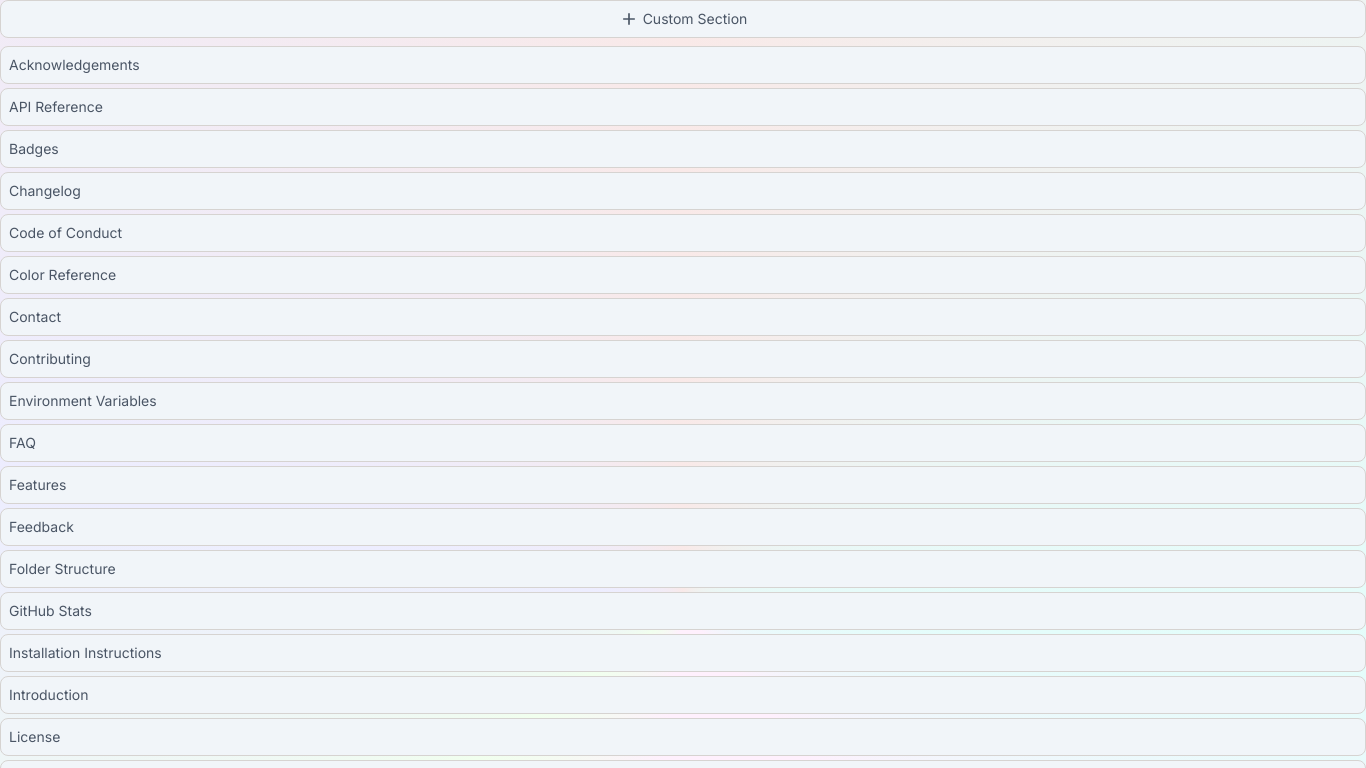
Test: Editor Component › renders the custom section button
The width and height of the screenshot is (1366, 768).
Click the text "Custom Section". click: (683, 19)
box: [0, 0, 1365, 38]
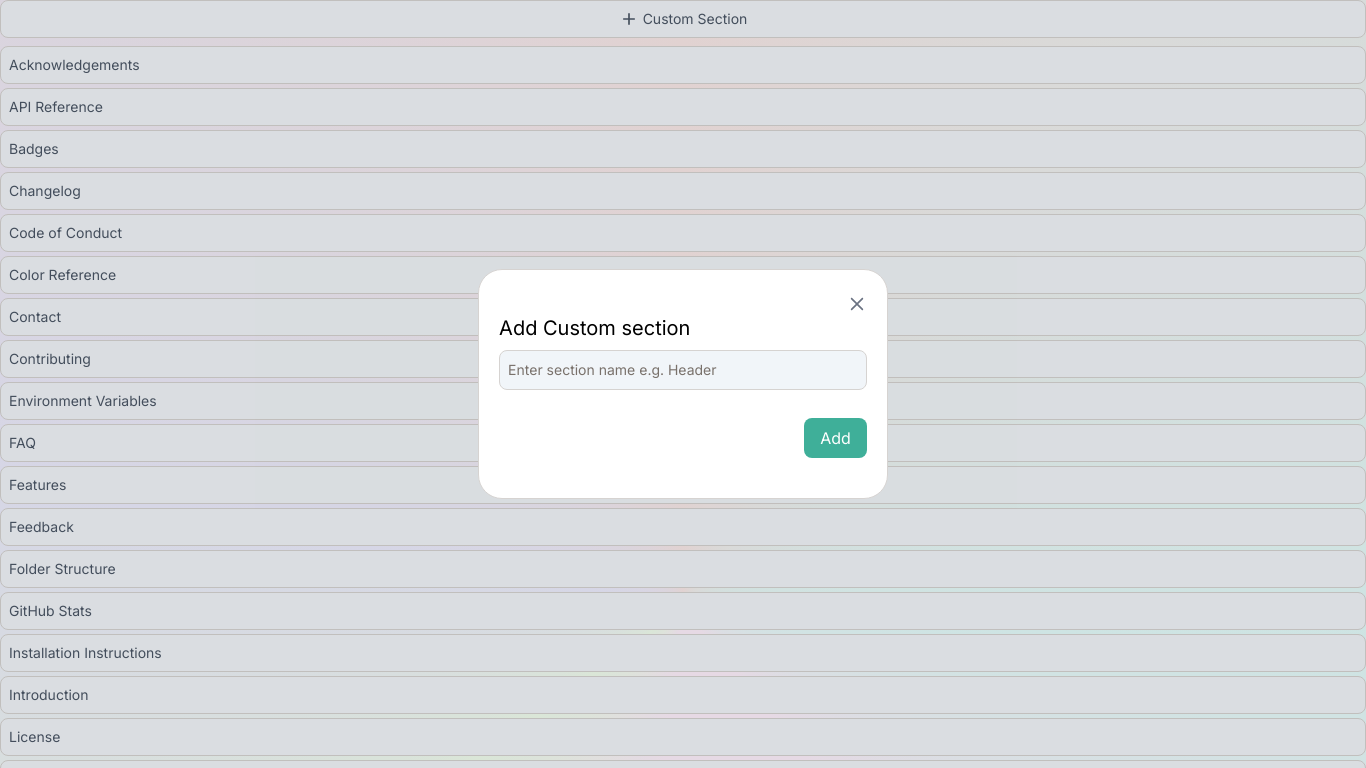
Result: the element with test id "custom-section-form" is shown
